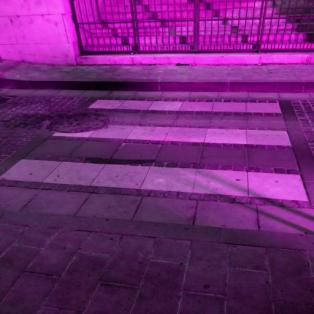Paso de Cebra: (46, 94, 300, 153)
